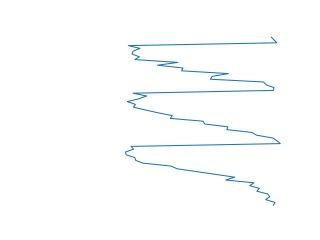distributaryMouthBar: (122, 35, 285, 207)
